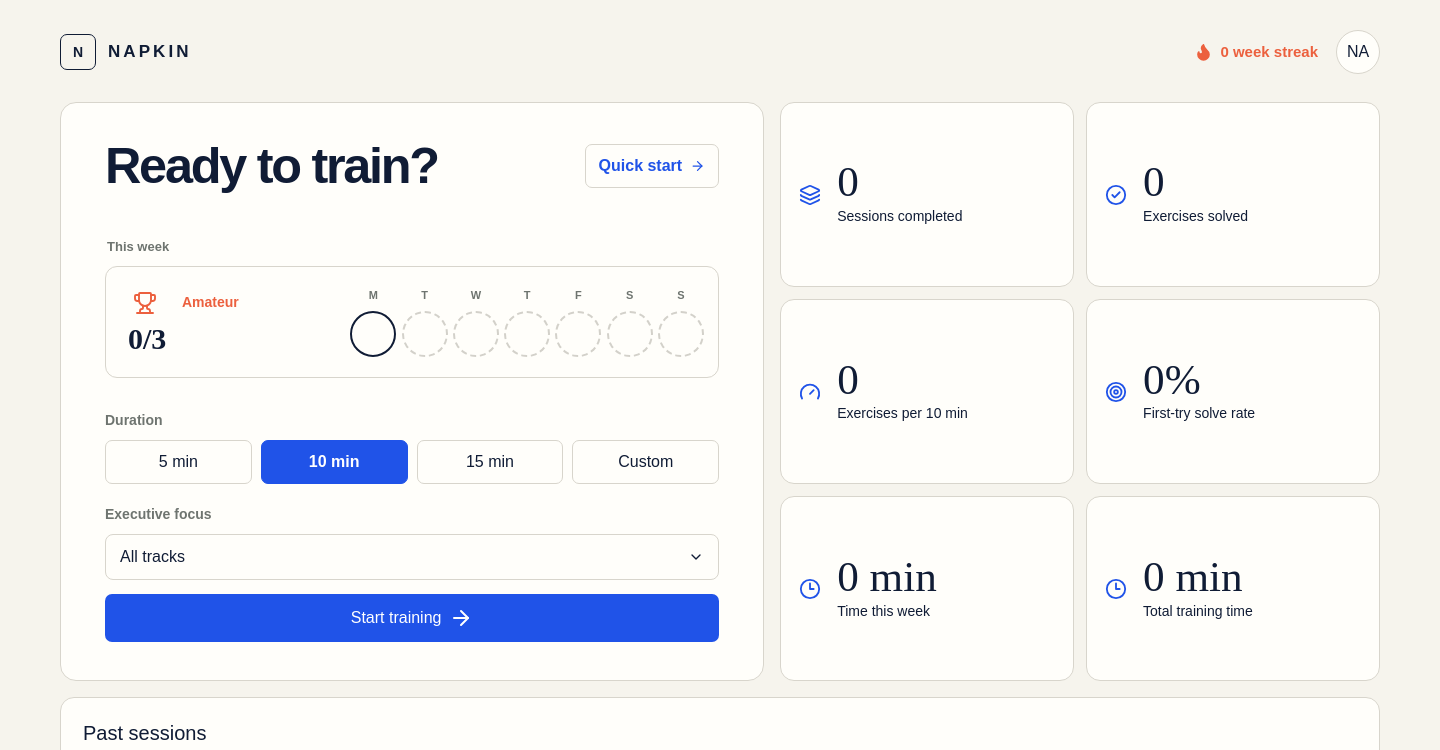
Test case: Napkin V1 flow › offers retry after a duration save failure without resetting the chosen time
This screenshot has width=1440, height=750.
Click the button "15 min".
click(490, 462)  # box [417, 440, 563, 484]
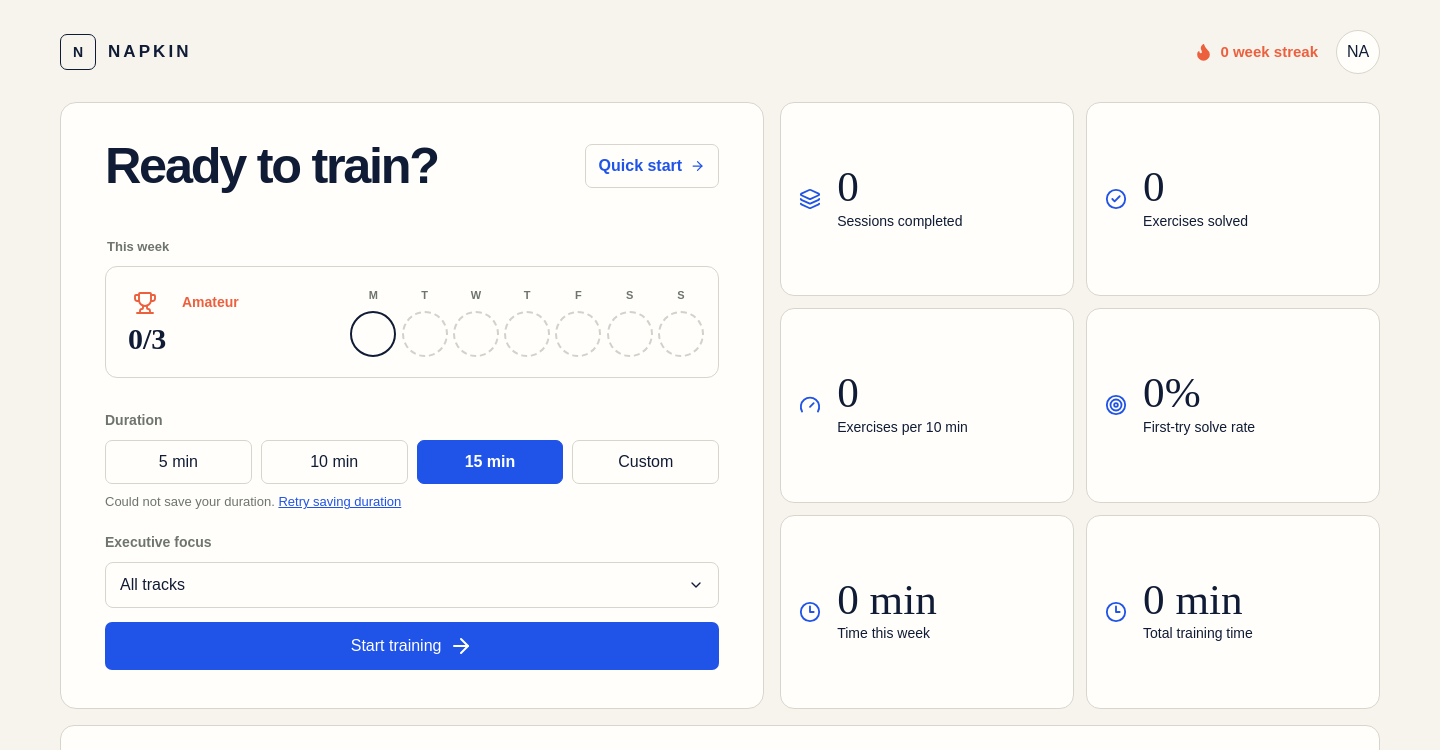
Click the button "Retry saving duration".
click(340, 502)  # box [278, 492, 401, 512]
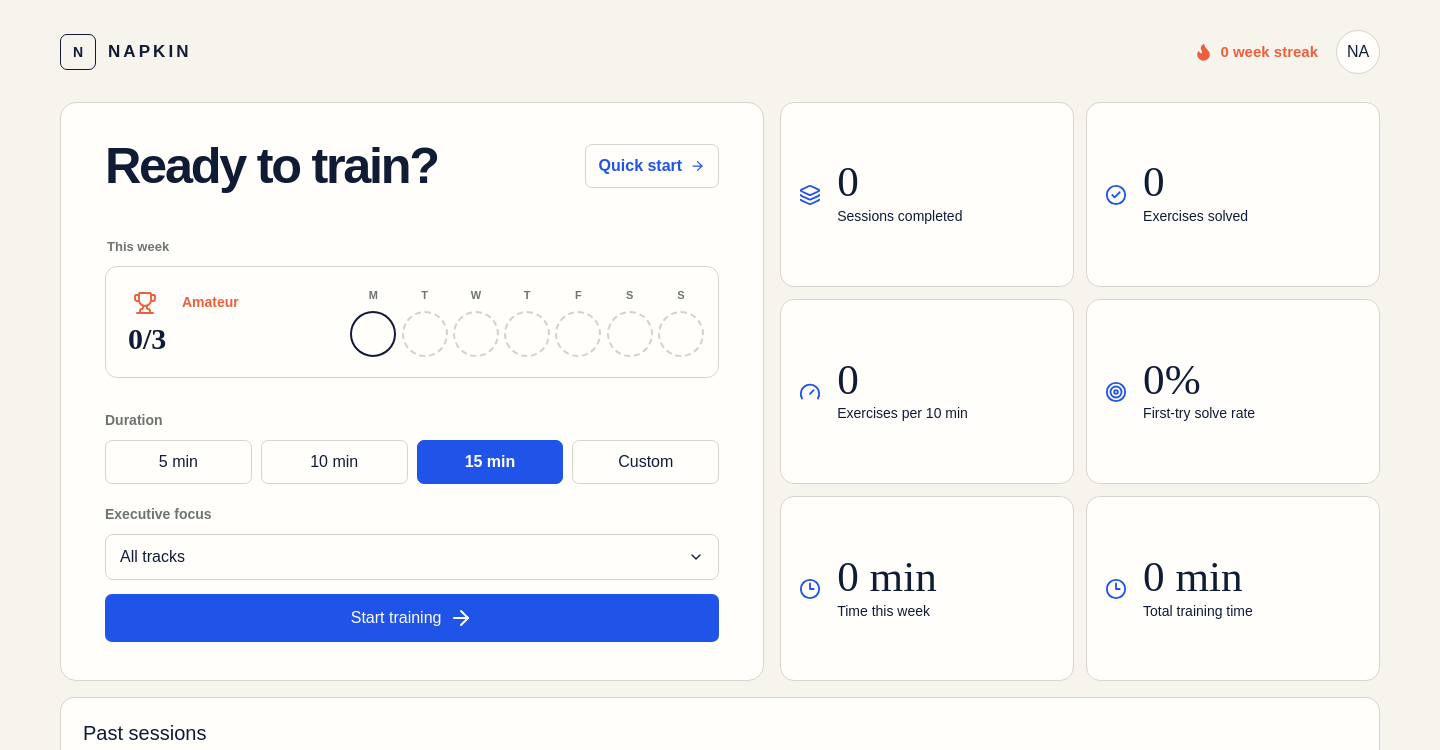
Result: the button "Retry saving duration" is gone
